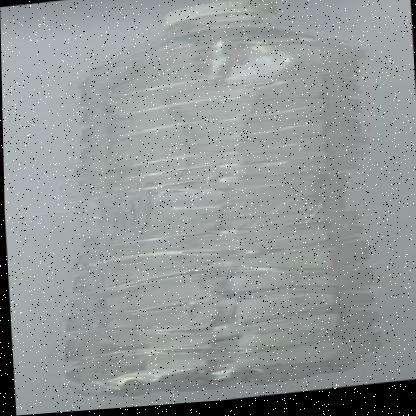bottle cap: (54, 1, 385, 138)
